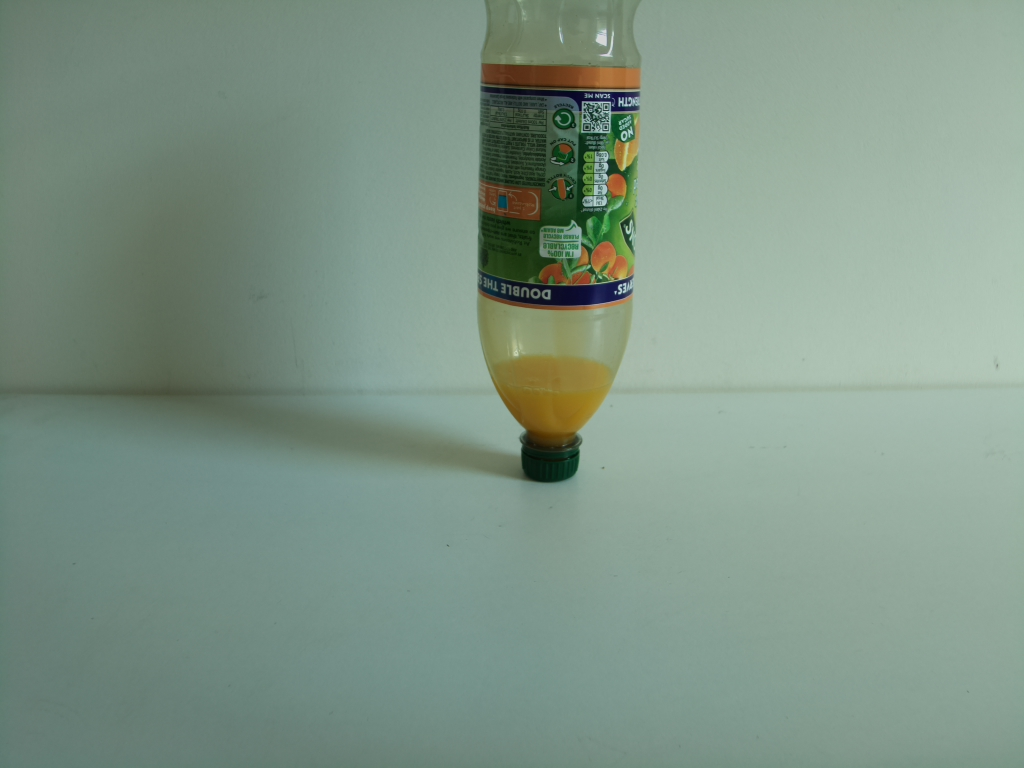juice: (463, 1, 649, 489)
